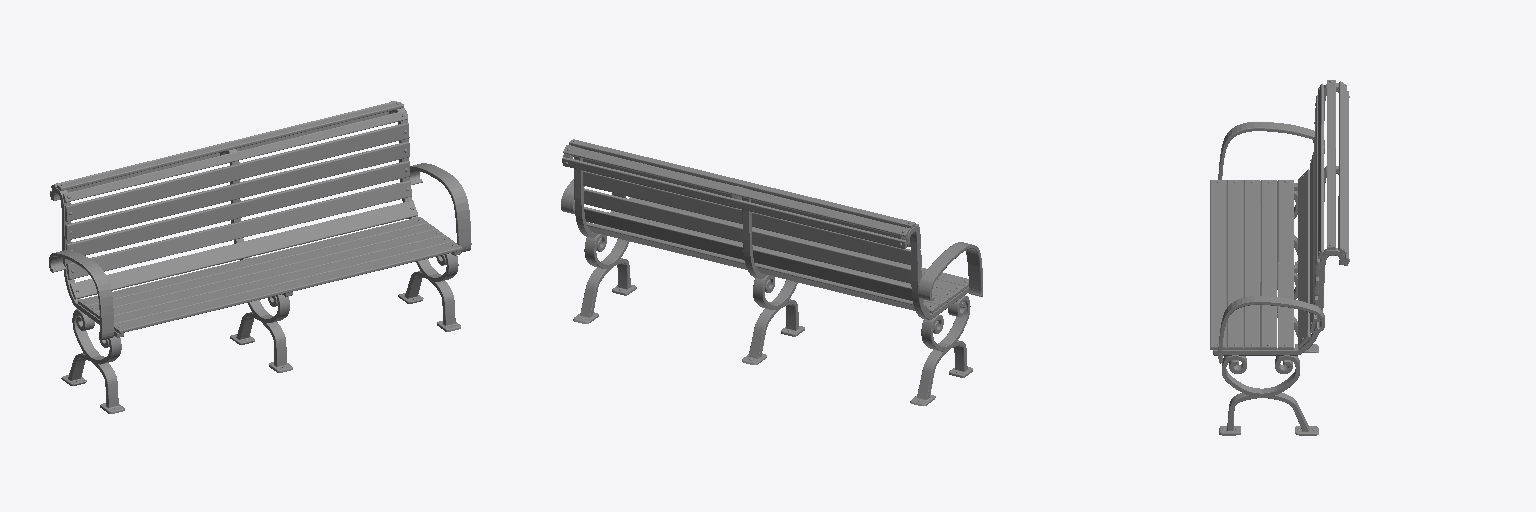
Rendered from silla1.obj.
3 views of the same model, side by side, from view 1: azimuth 30°, elevation 25°; view 2: azimuth 150°, elevation 25°; view 3: azimuth 270°, elevation 25° (orthographic).
Parts seen in each view (by area): view 1: clasic_park_bench_001; view 2: clasic_park_bench_001; view 3: clasic_park_bench_001.
Part boxes in pixels (left/top/right/bottom): clasic_park_bench_001: left=49, top=101, right=471, bottom=413; clasic_park_bench_001: left=561, top=139, right=982, bottom=405; clasic_park_bench_001: left=1210, top=80, right=1349, bottom=435.
Size of the model in its own units: 232 by 112 by 75.95.